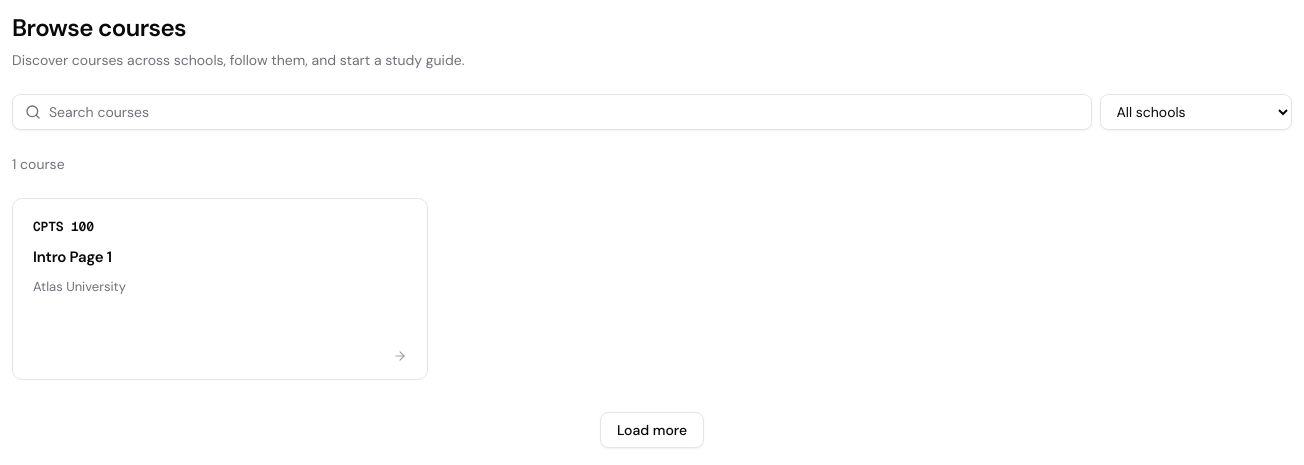
Scenario: CoursesPage (ASK-193) › appends results when Load more is clicked (AC3)
expect the heading "Intro Page 1" is shown: met, box left=33, top=246, right=112, bottom=266
Click the button "Load more" at (652, 430), box left=600, top=412, right=704, bottom=448
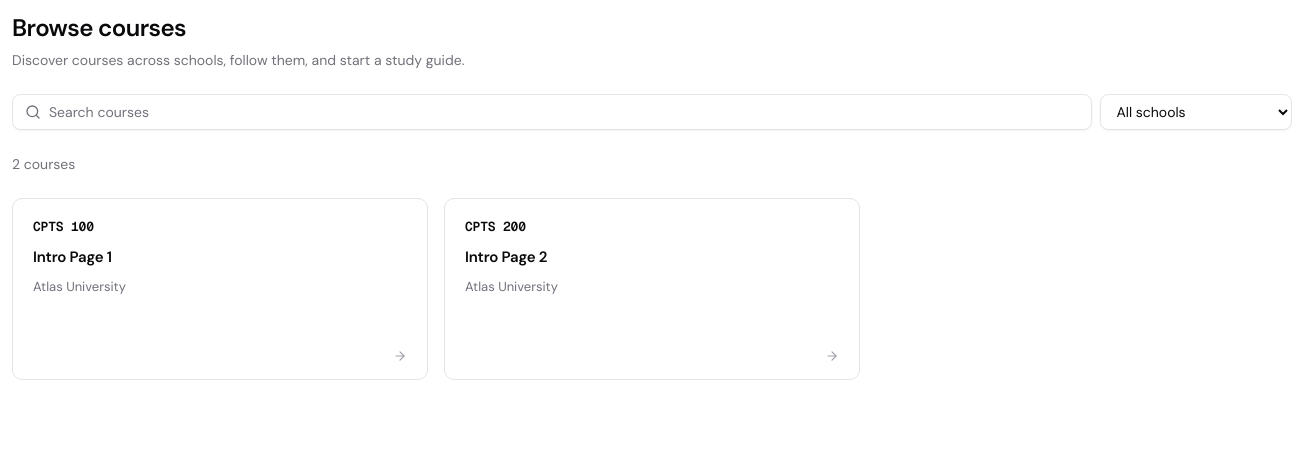
expect the heading "Intro Page 1" is shown: met, box left=33, top=246, right=112, bottom=266
expect the heading "Intro Page 2" is shown: met, box left=465, top=246, right=547, bottom=266
